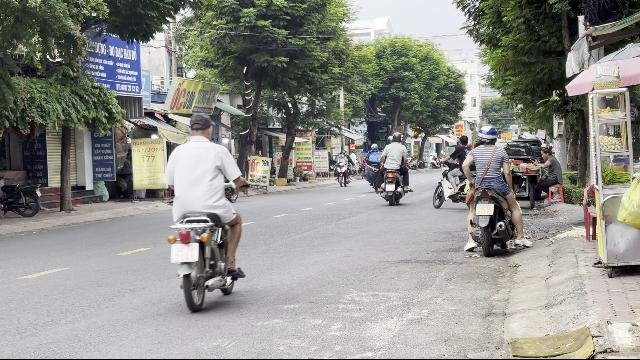helmet: (477, 125, 498, 145)
licenseplate: (171, 242, 199, 262), (476, 205, 494, 216)
motorcyclist: (162, 110, 248, 310), (460, 124, 526, 256)
nohelmet: (187, 113, 215, 141)
